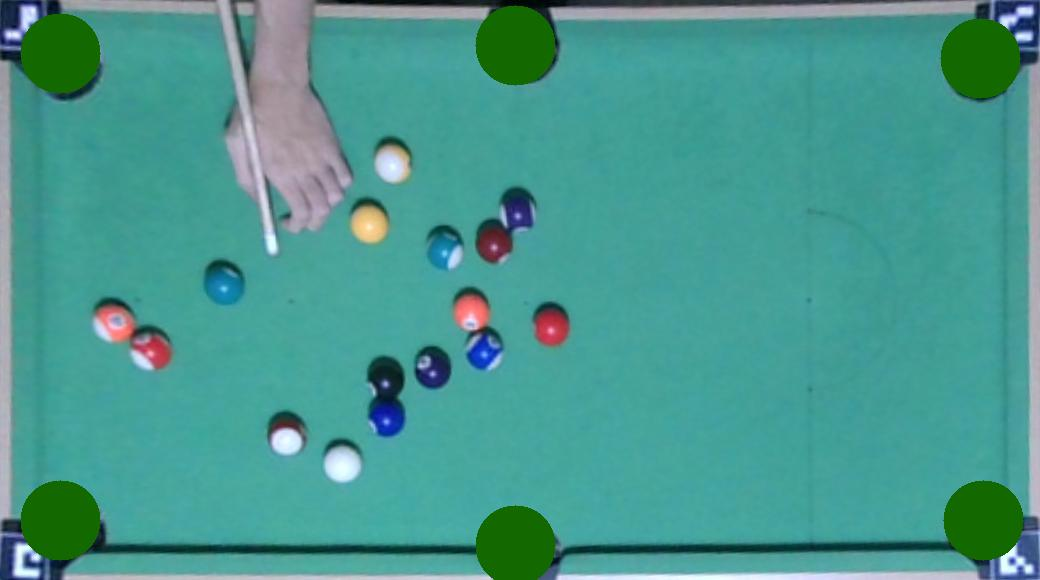Ball: (203, 262, 245, 306), (91, 303, 137, 343), (130, 329, 173, 371), (425, 228, 465, 270), (498, 190, 538, 232), (464, 329, 504, 370), (349, 203, 390, 243), (322, 444, 362, 484), (372, 145, 412, 184), (532, 308, 570, 346), (366, 400, 406, 436), (414, 349, 450, 388), (268, 422, 309, 456), (476, 225, 512, 263), (452, 295, 490, 331), (367, 362, 403, 398)
